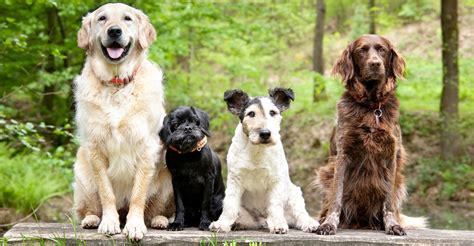dog: (75, 3, 172, 239), (319, 34, 406, 235), (210, 88, 319, 232), (159, 106, 224, 230)
